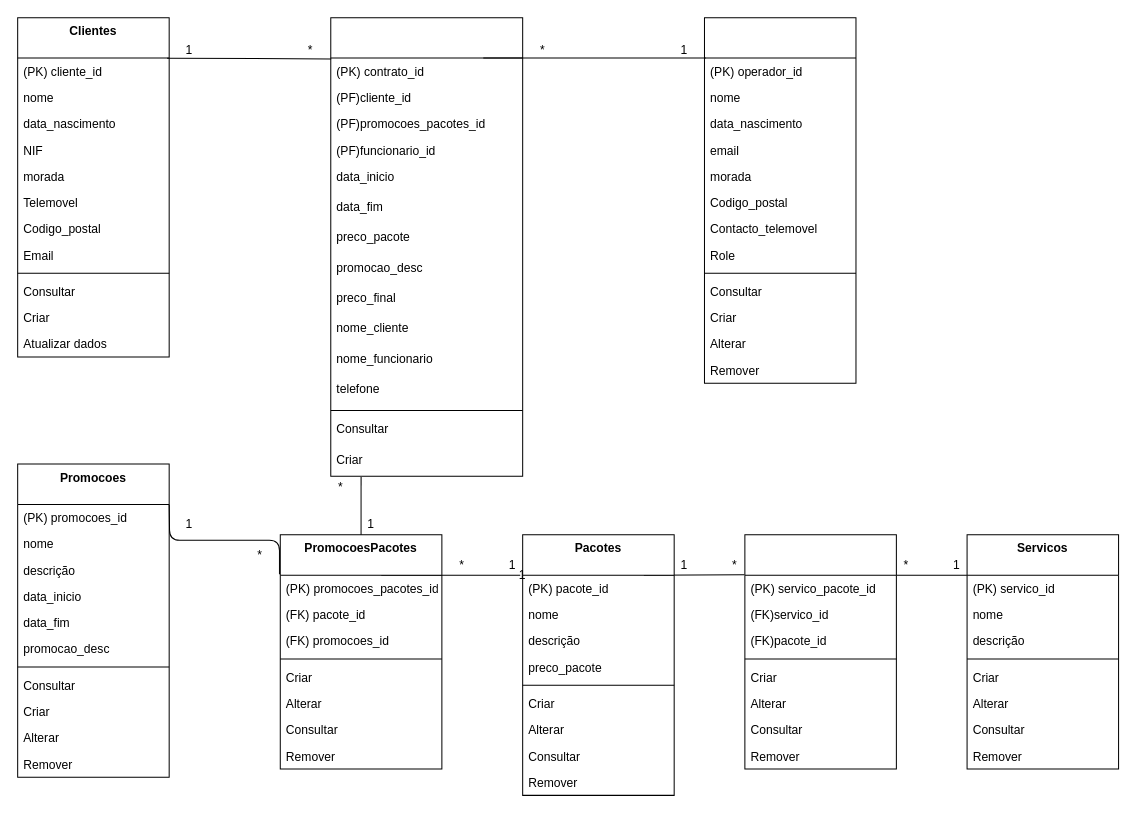
Image size: 1136x816. Some labels were removed from this diagram. The shapes that lost their labels are listed below. From the top down, each one's box as (x1, y1, x2, y2) in pixels, then its label:
(703, 17, 856, 383): Funcionarios
(330, 17, 523, 476): Contratos
(744, 534, 896, 769): ServicosPacotes
